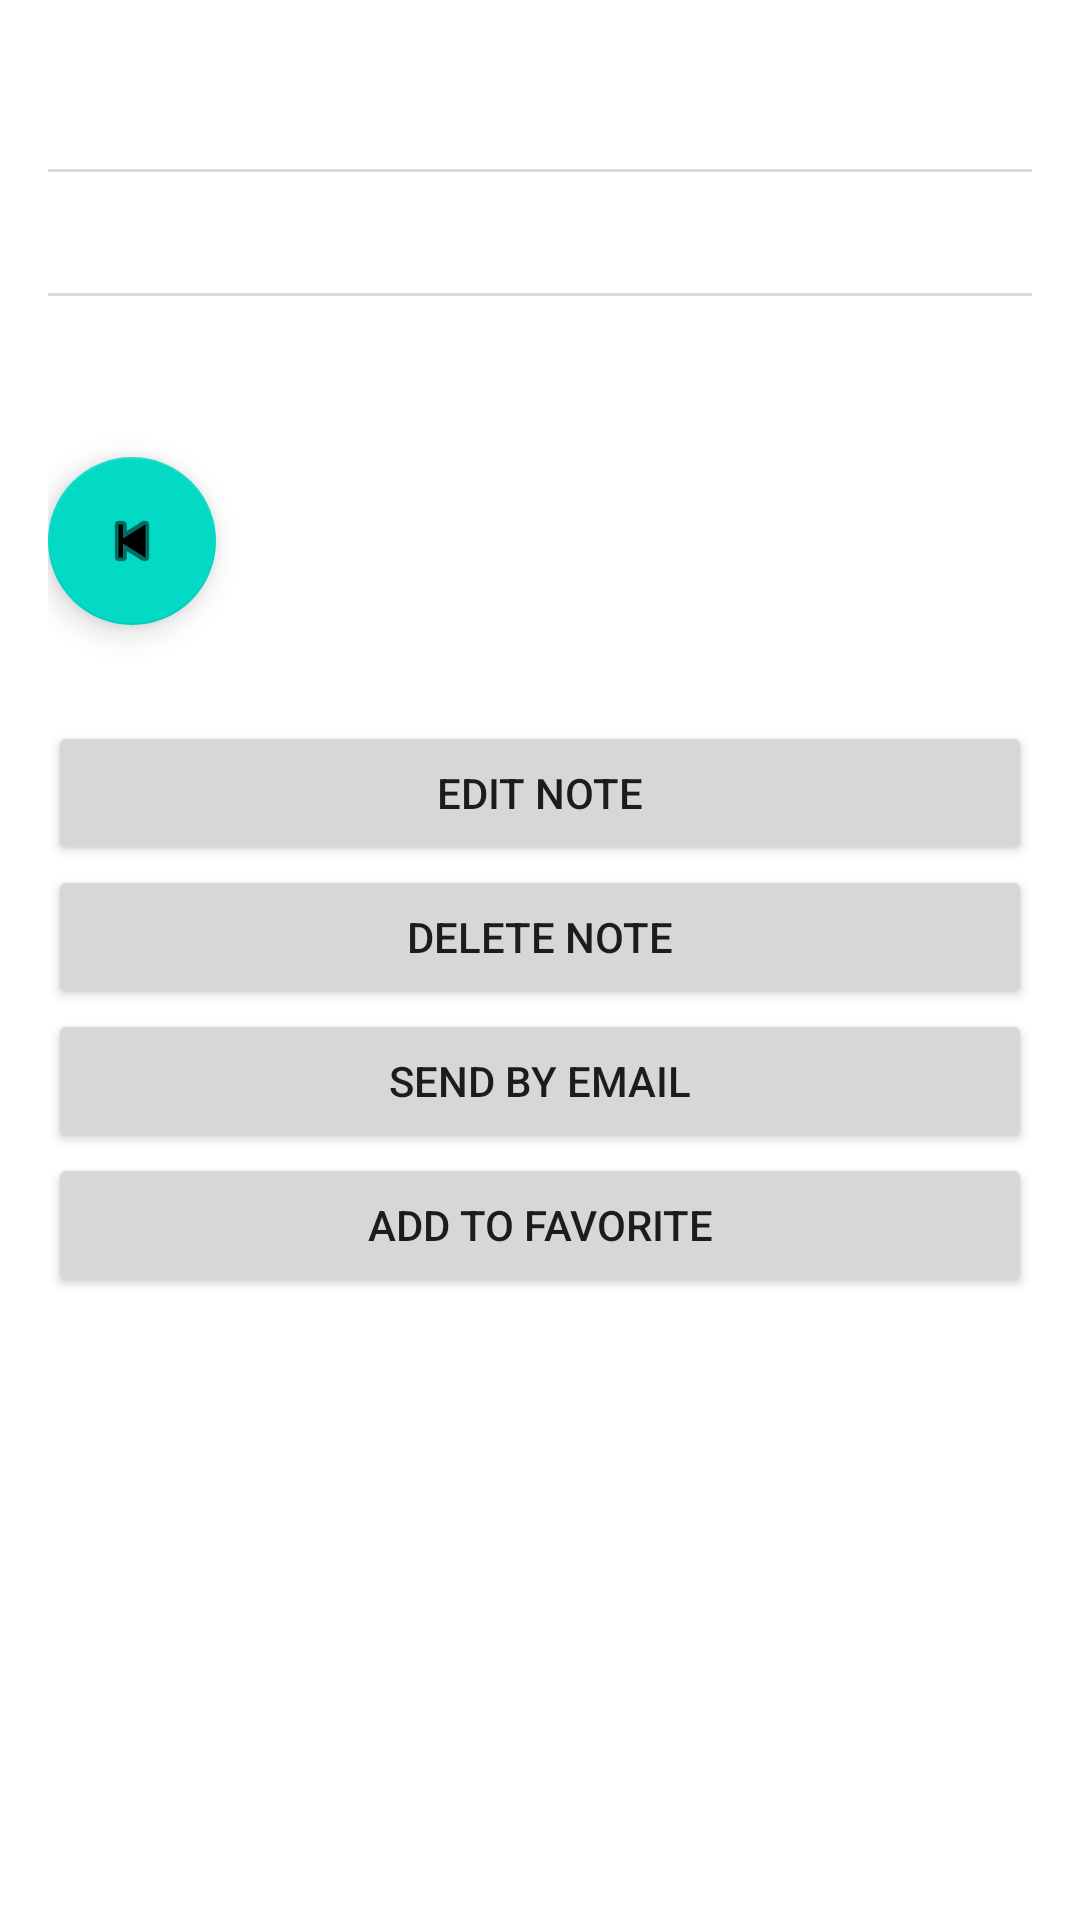

Where to tap for icons on this 1080px x 1920px app screen, as point (x, y):
previous: point (132, 541)
